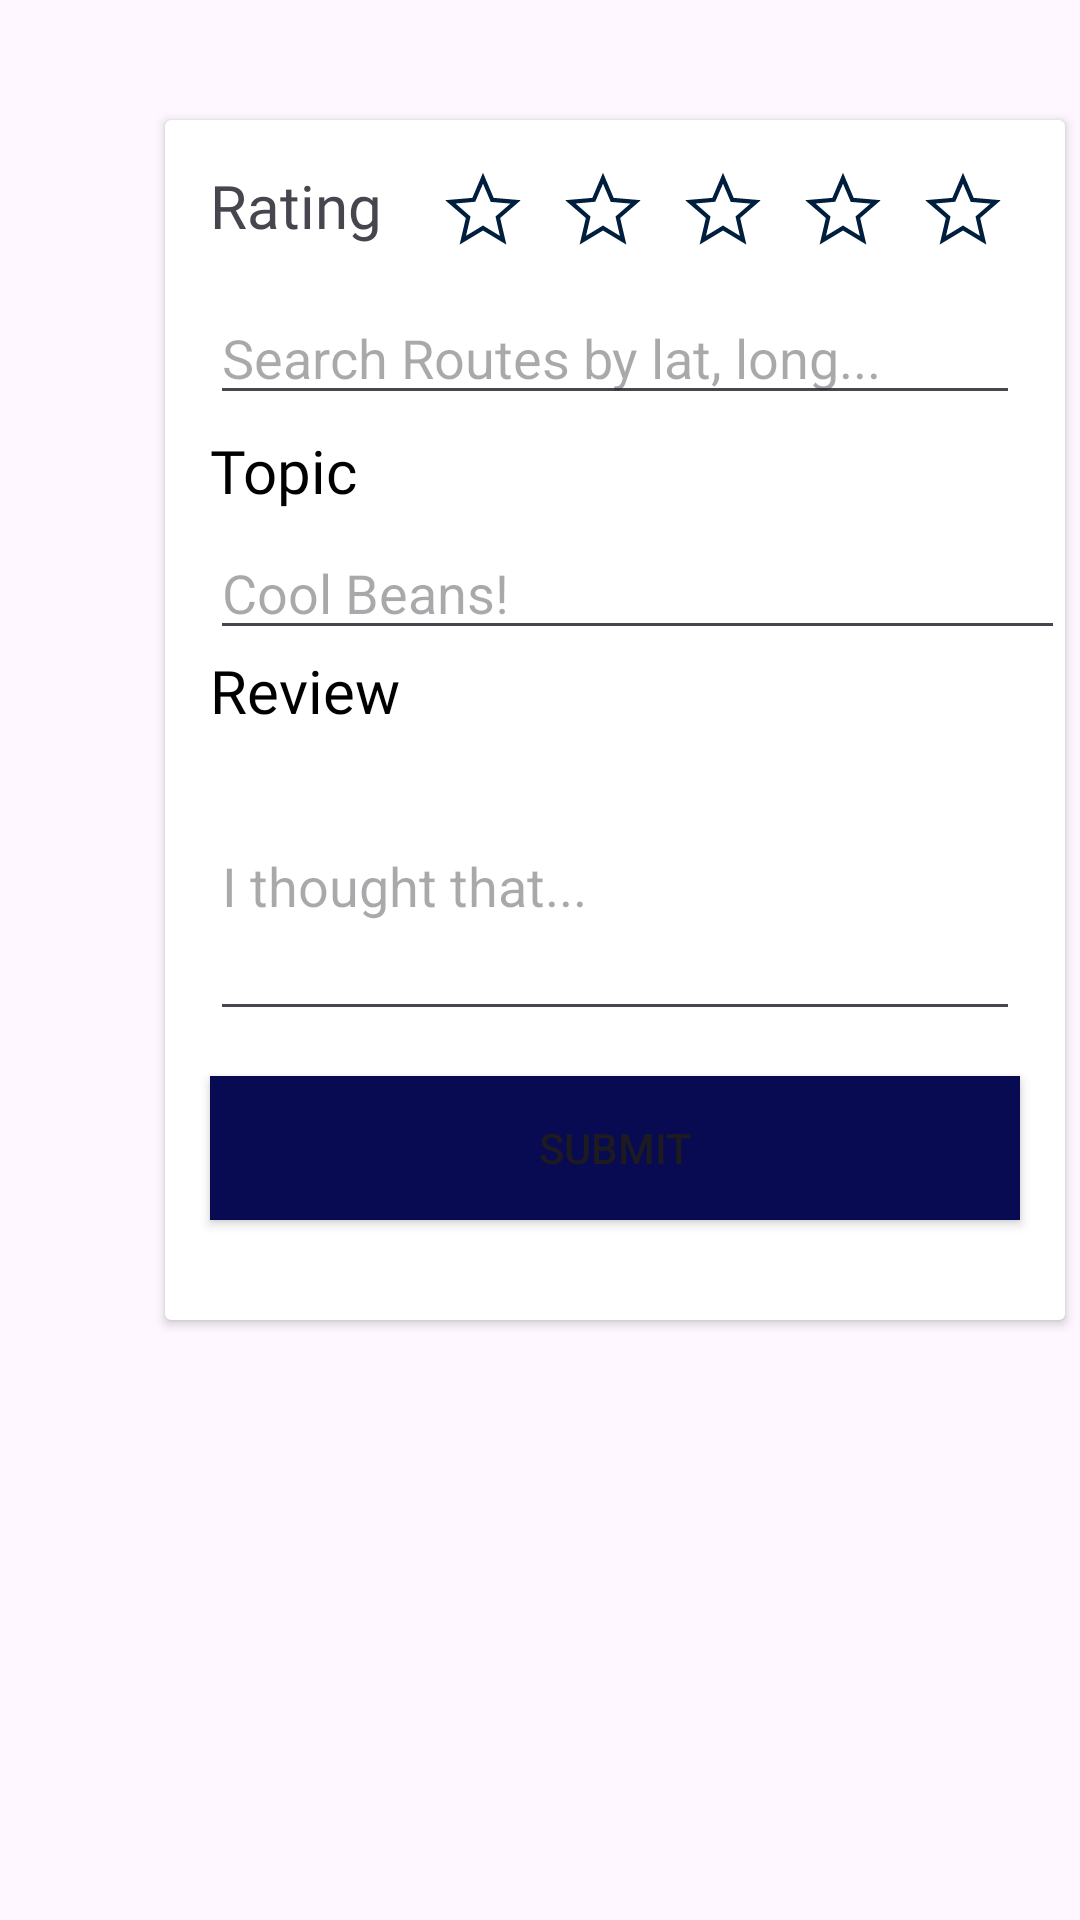

Locate icon controls on the screen. Image size 1080 × 1920, boxes as bbox=(x1, y1, x2, y2).
star hollow: bbox=(445, 173, 521, 245), bbox=(565, 173, 641, 245), bbox=(685, 173, 761, 245), bbox=(805, 173, 881, 245), bbox=(925, 173, 1001, 245)
